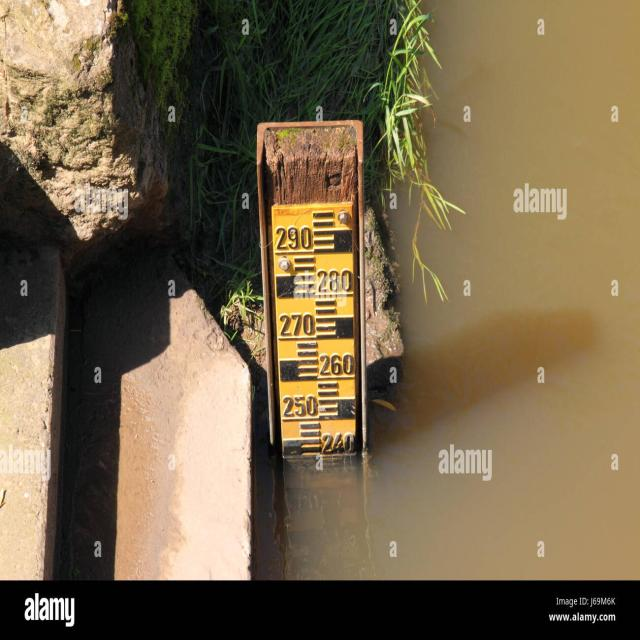ruler: (252, 198, 370, 467)
value: (270, 222, 314, 252), (315, 267, 356, 296), (274, 310, 316, 338), (278, 392, 321, 418), (319, 350, 359, 377), (320, 432, 357, 456)
